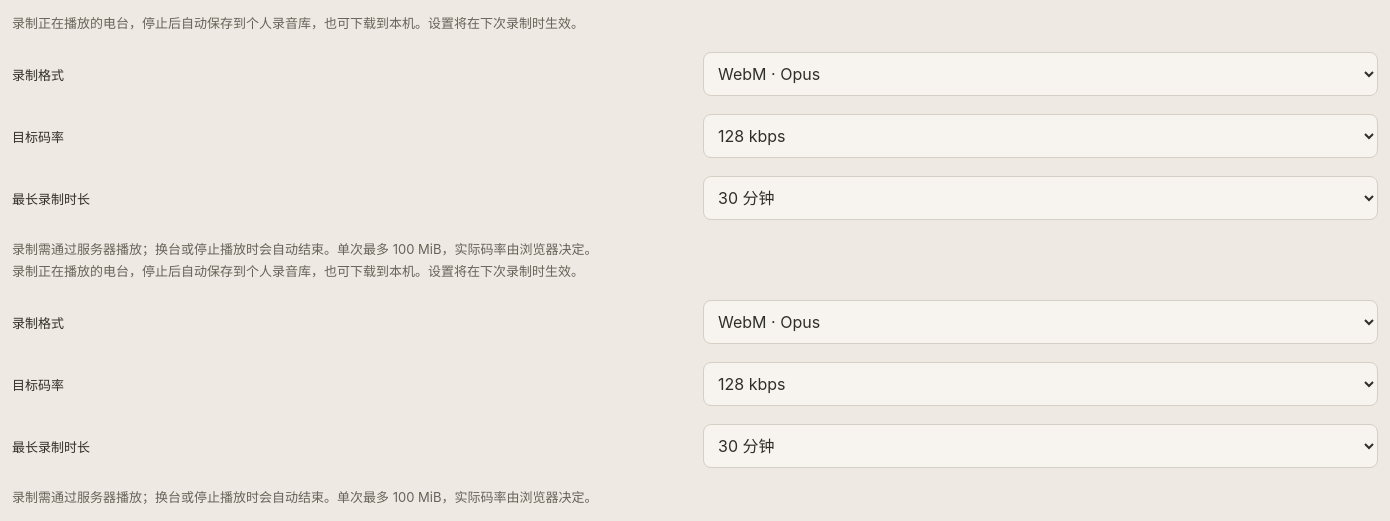
Scenario: recording interface › shows supported formats only and propagates next-recording preferences
Select "Ogg · Opus" in the 1st dropdown labelled "录制格式" at point(1040, 74), box [703,52,1378,96]
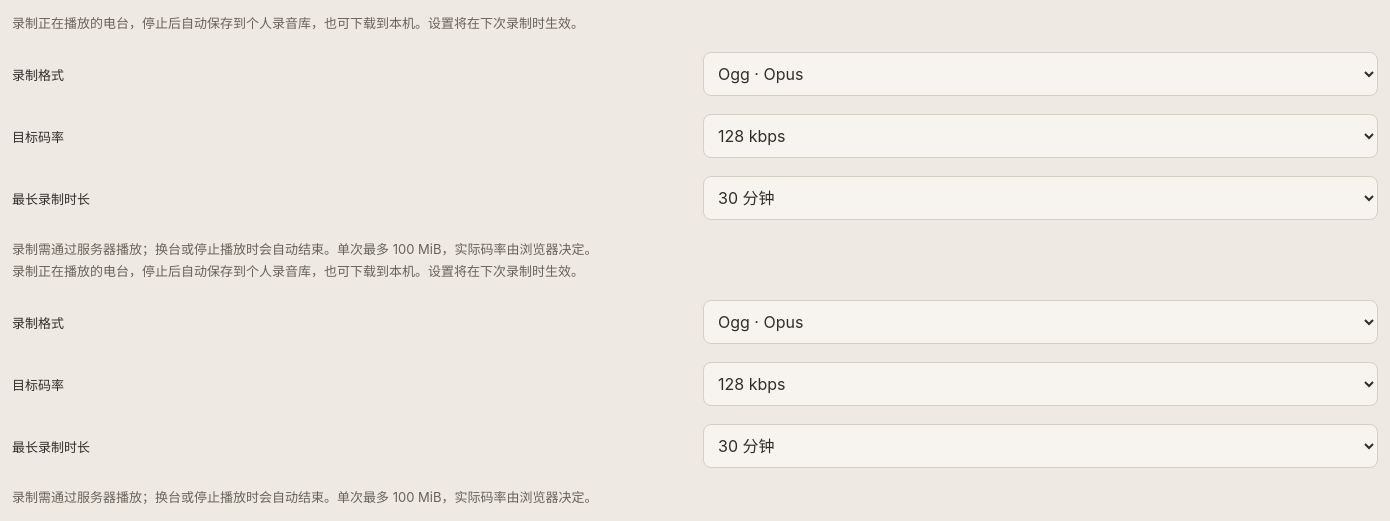
Expected: the 2nd dropdown labelled "录制格式" shows "Ogg · Opus", [703,300,1378,344]
